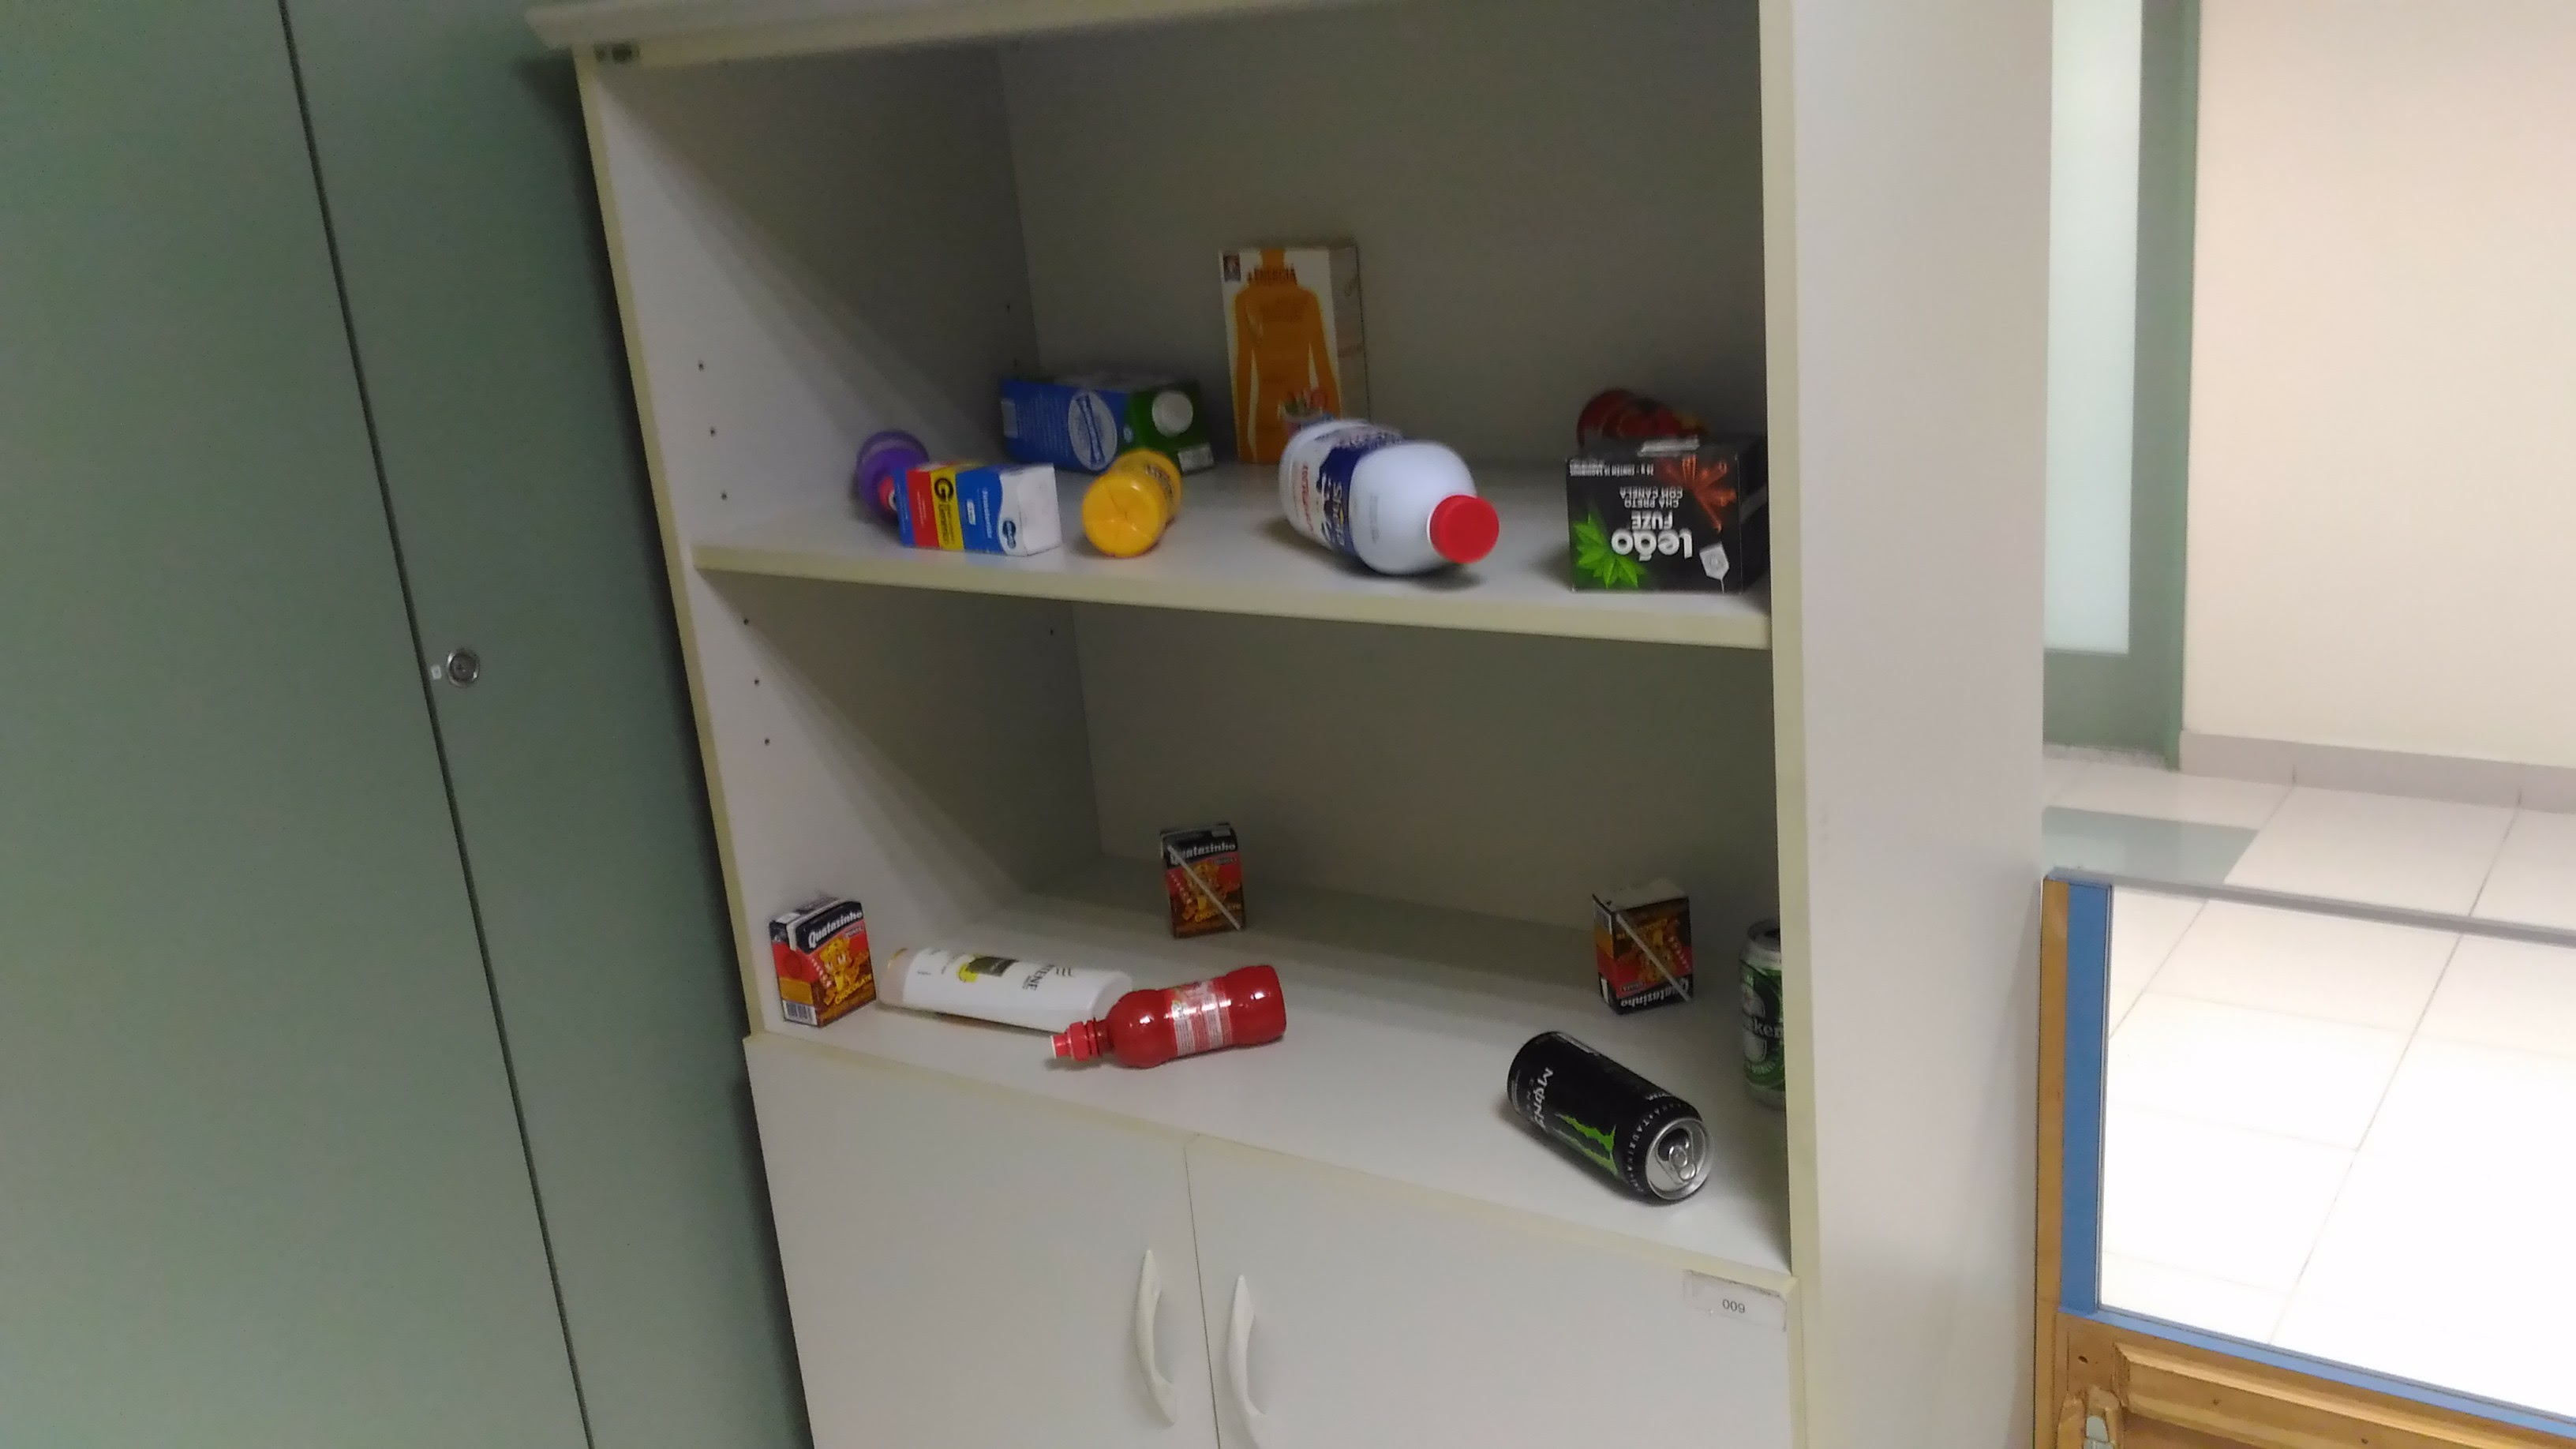cereal: (1215, 226, 1373, 410)
chocolate_milk: (1583, 870, 1707, 1023), (766, 885, 883, 1030), (1155, 816, 1249, 948)
heineken: (1730, 915, 1796, 1109)
medicine: (885, 455, 1070, 563)
milk_bottle: (1270, 412, 1506, 586)
milk_box: (994, 363, 1208, 455)
monster: (1493, 1023, 1716, 1210)
red_juice: (1047, 954, 1293, 1081)
shampoo: (870, 939, 1139, 1053)
tea_box: (1559, 435, 1773, 605)
yellow_juice: (1079, 435, 1184, 564)
